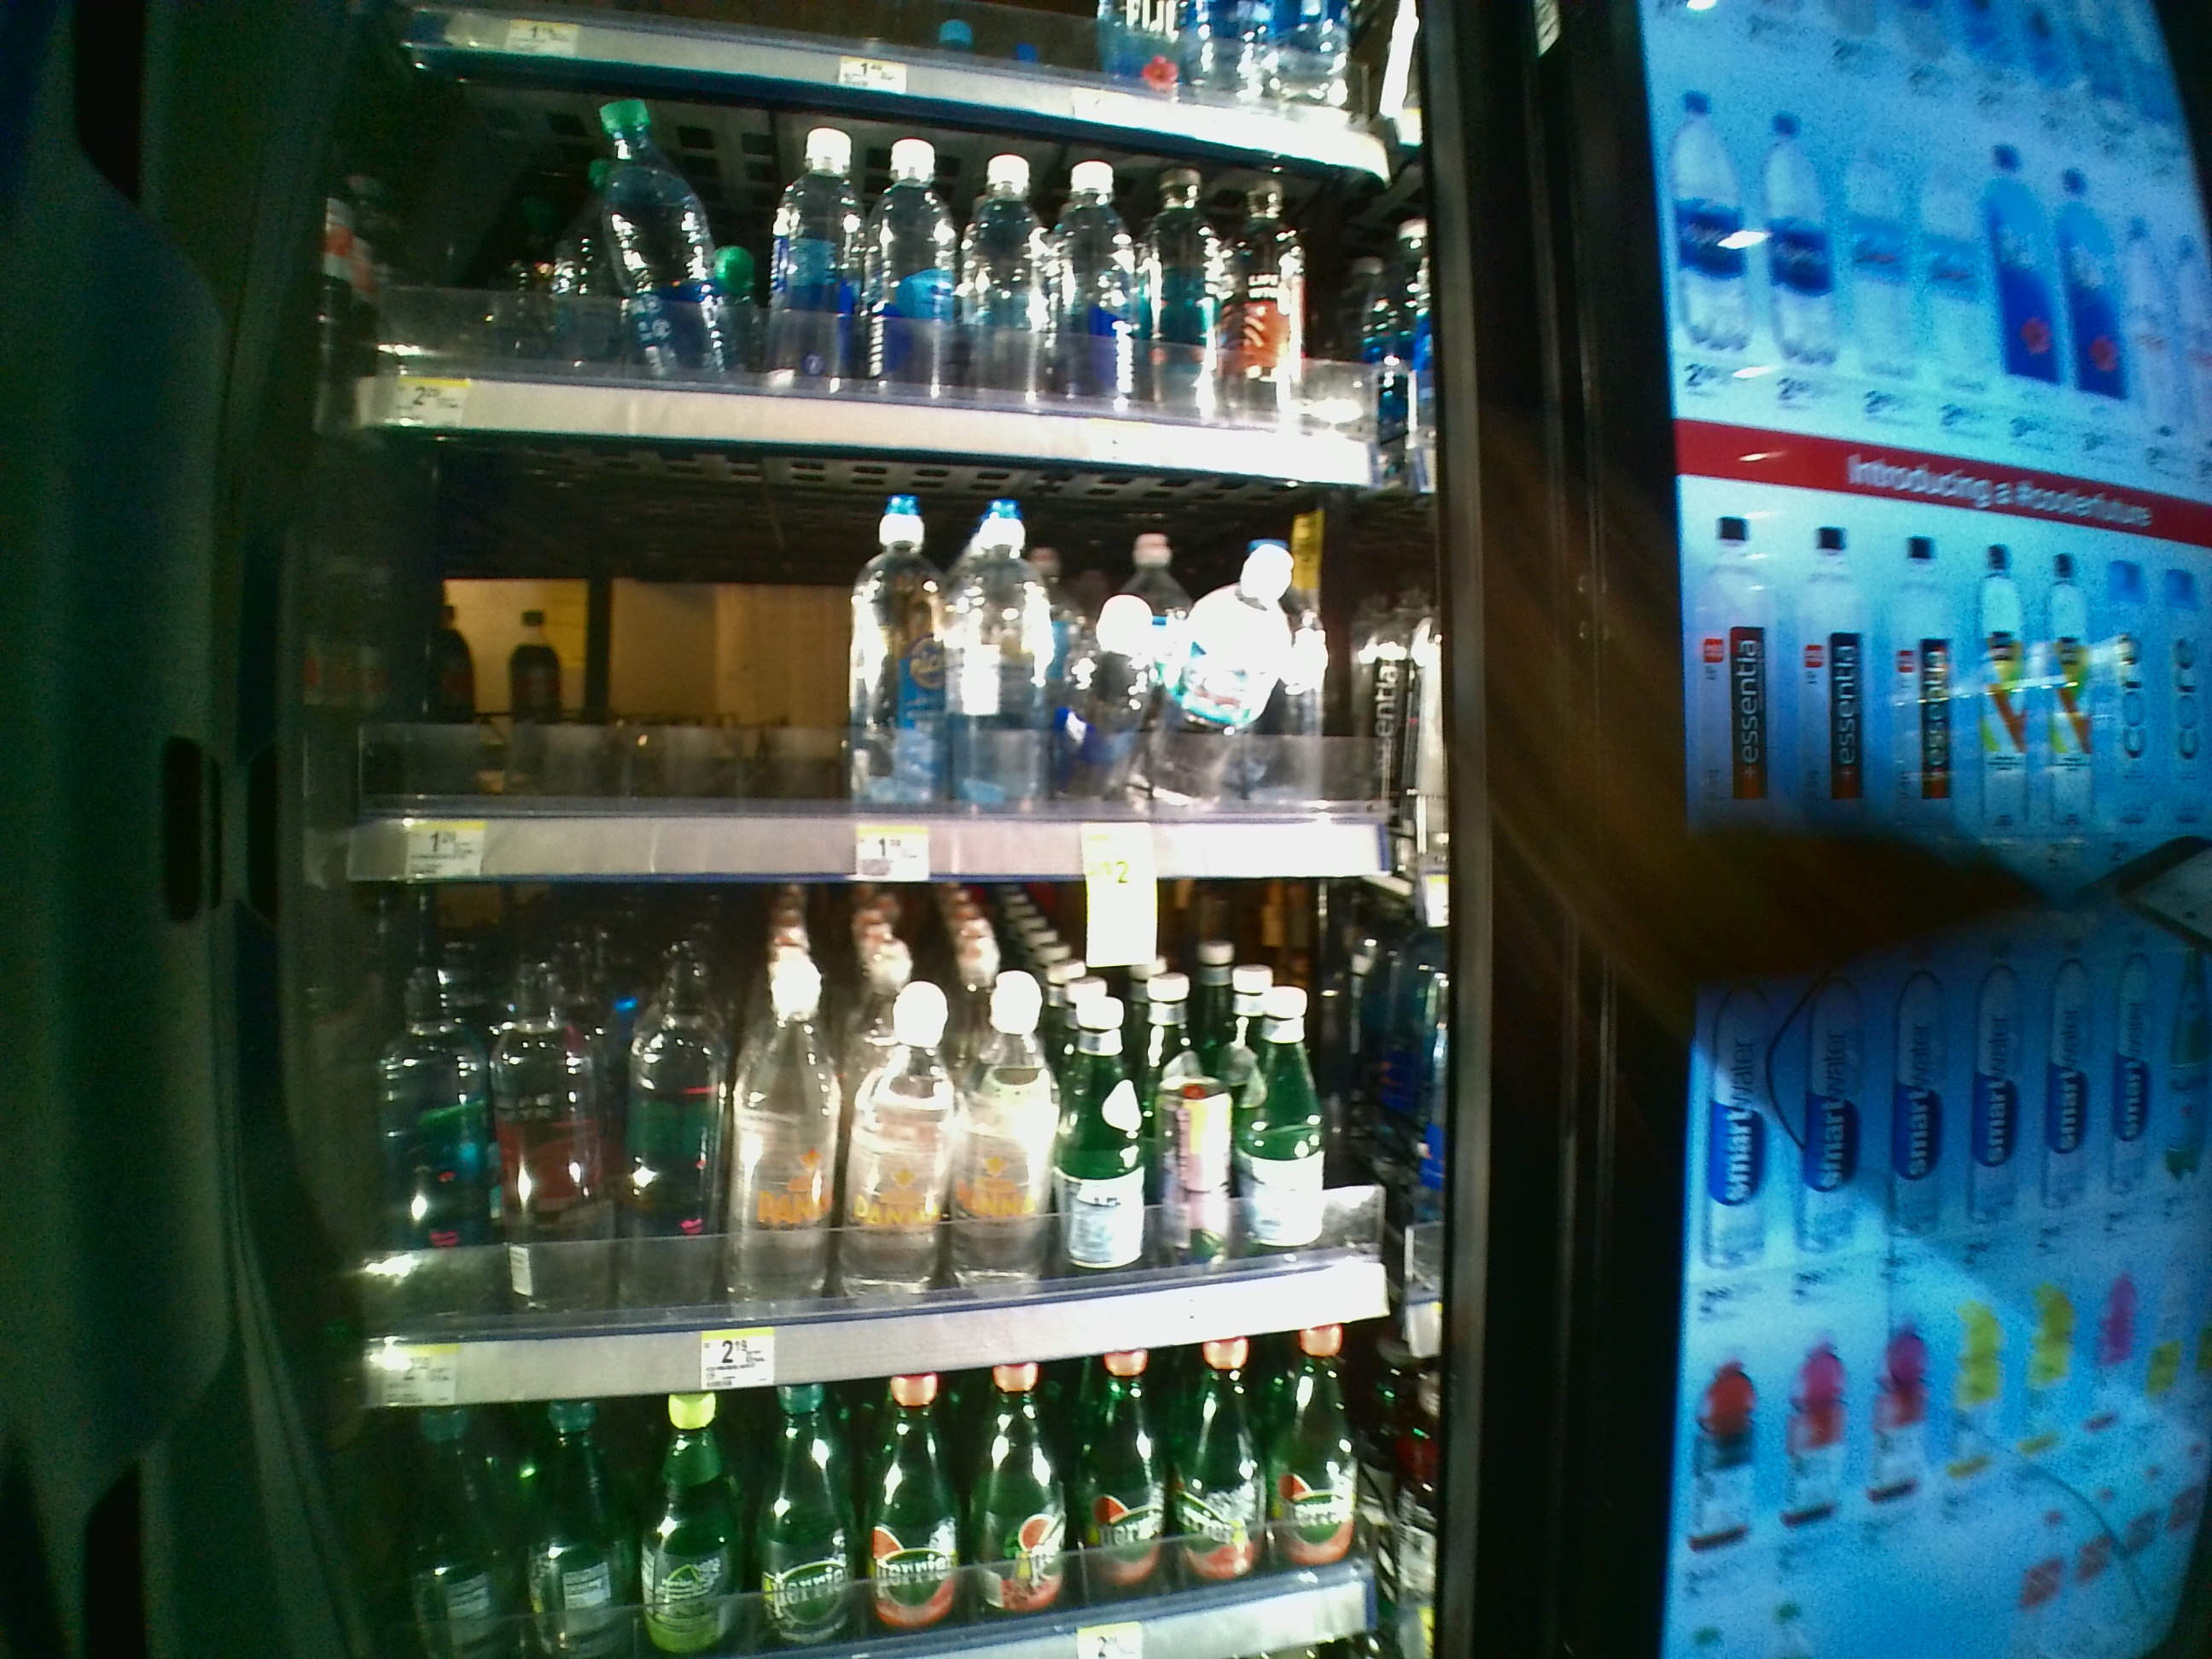shelf: (324, 897, 1413, 1413), (329, 420, 1423, 884)
